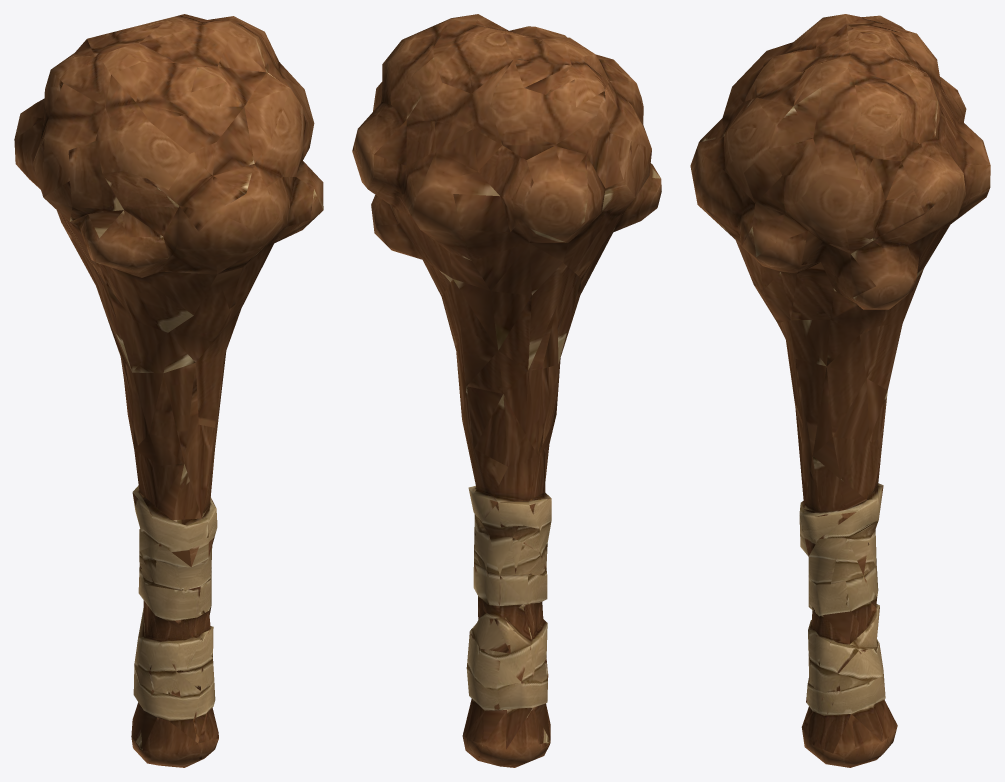
Rendered from club.glb.
3 views of the same model, side by side, from view 1: azimuth 30°, elevation 25°; view 2: azimuth 150°, elevation 25°; view 3: azimuth 270°, elevation 25° (orthographic).
Parts seen in each view (by area): view 1: Model; view 2: Model; view 3: Model.
Part boxes in pixels (x1,y1,x2,y2): Model: (14, 14, 323, 767); Model: (352, 14, 661, 767); Model: (690, 14, 990, 767).
Size of the model in its own units: 0.3172 by 0.8716 by 0.3272.
1 material, 1 textured.
